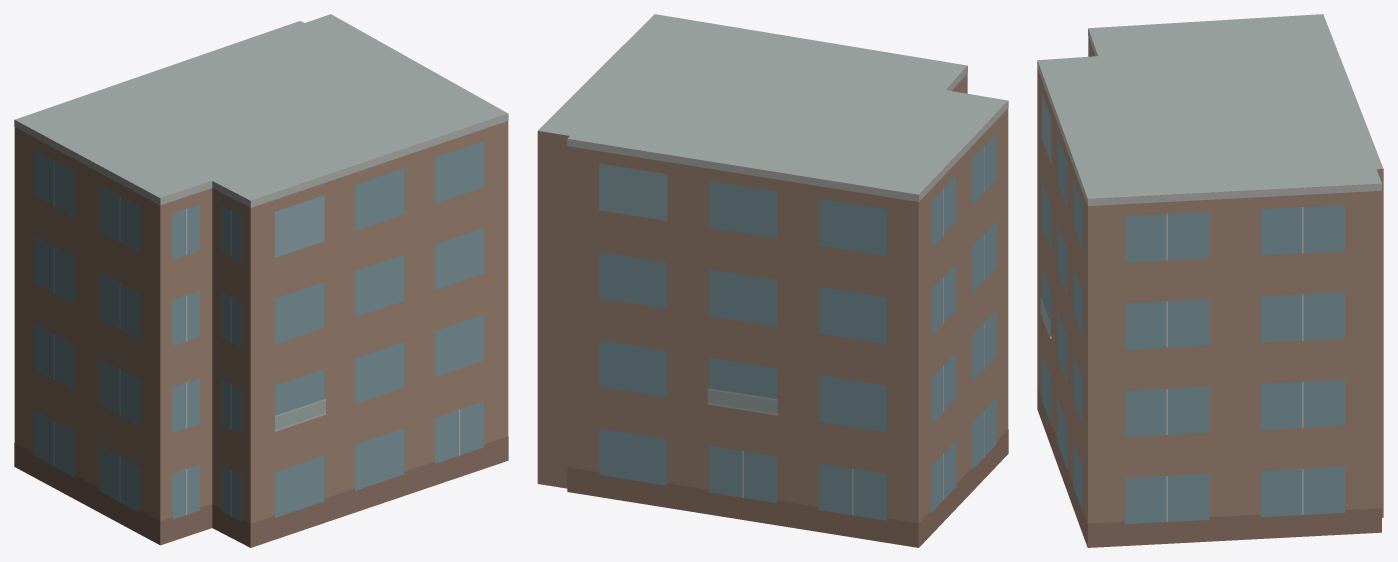
The model's file is survey-upis-32935856.glb.
3 renders of one model, left to right at view 1: azimuth 30°, elevation 25°; view 2: azimuth 150°, elevation 25°; view 3: azimuth 270°, elevation 25°, orthographic.
Visible parts, largest first — view 1: survey-upis-32935856.tmp; view 2: survey-upis-32935856.tmp; view 3: survey-upis-32935856.tmp.
Boxes of the visible parts, <box> form: survey-upis-32935856.tmp: <box>14,14,508,547</box>; survey-upis-32935856.tmp: <box>537,14,1008,547</box>; survey-upis-32935856.tmp: <box>1037,14,1383,547</box>.
Size of the model in its own units: 13.36 by 11.75 by 10.57.
